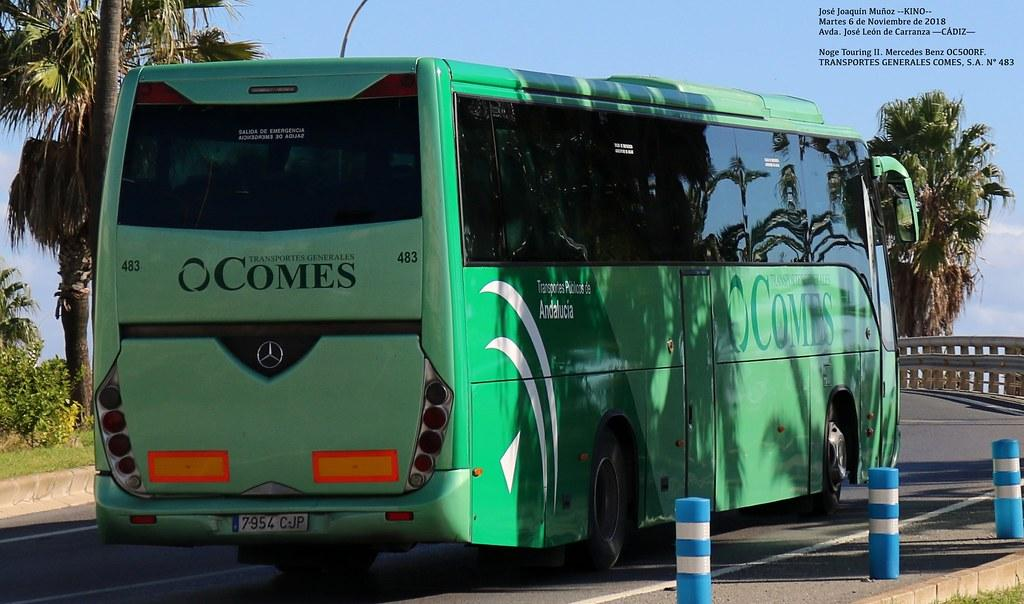vehicle: (93, 57, 920, 577)
